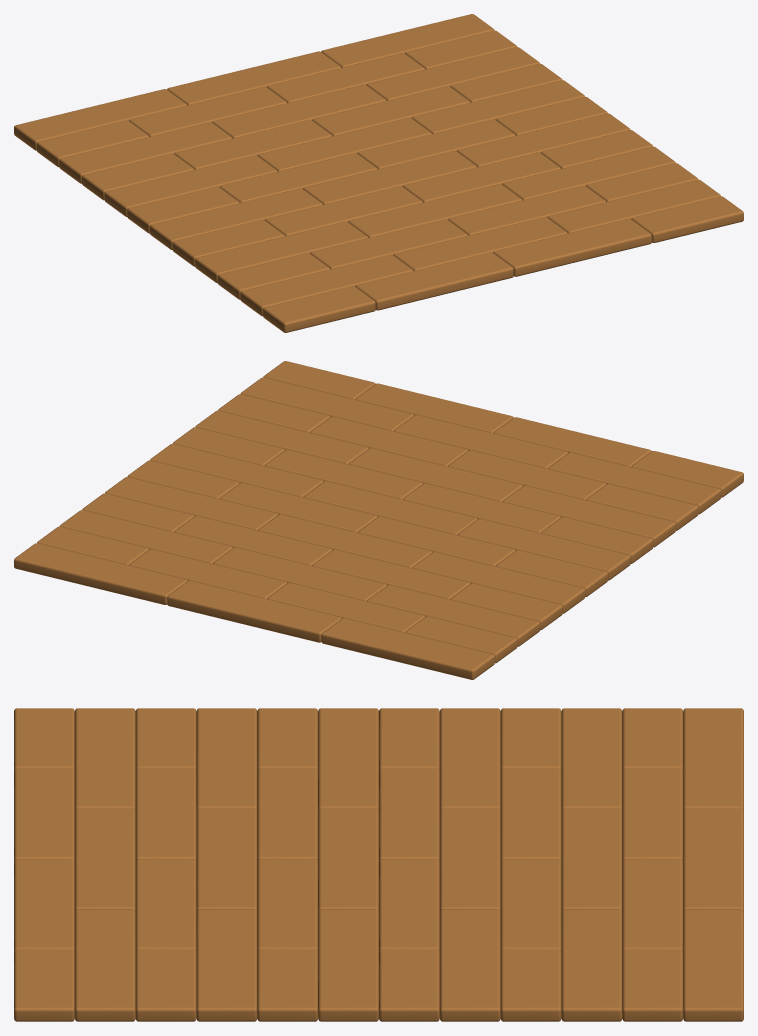
The model's file is SM_plank_floor.fbx.
3 views of the same model, one above another, from view 1: azimuth 30°, elevation 25°; view 2: azimuth 150°, elevation 25°; view 3: azimuth 270°, elevation 25° (orthographic). The views are drawn at different scales.
Parts seen in each view (by area): view 1: SM_plank_floor; view 2: SM_plank_floor; view 3: SM_plank_floor.
Boxes of the visible parts, x1,y1,x2,y2 form: SM_plank_floor: [14, 14, 743, 332]; SM_plank_floor: [14, 361, 743, 679]; SM_plank_floor: [14, 708, 743, 1021].
Bounding box in the file's own units: 447 × 9.84 × 457.
1 material, 1 textured.
